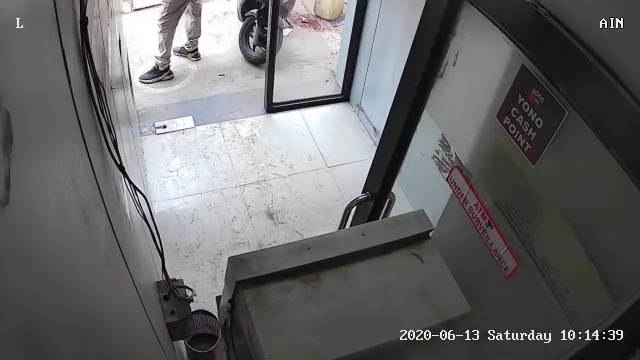open: (117, 8, 384, 129)
